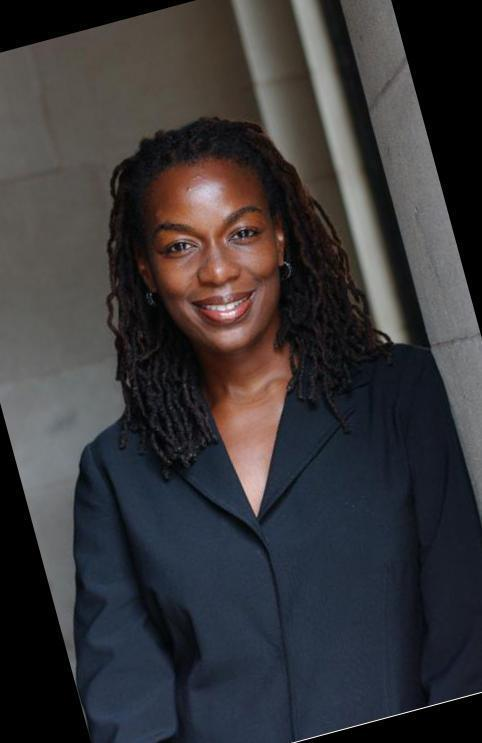Sober: (146, 167, 280, 339)
